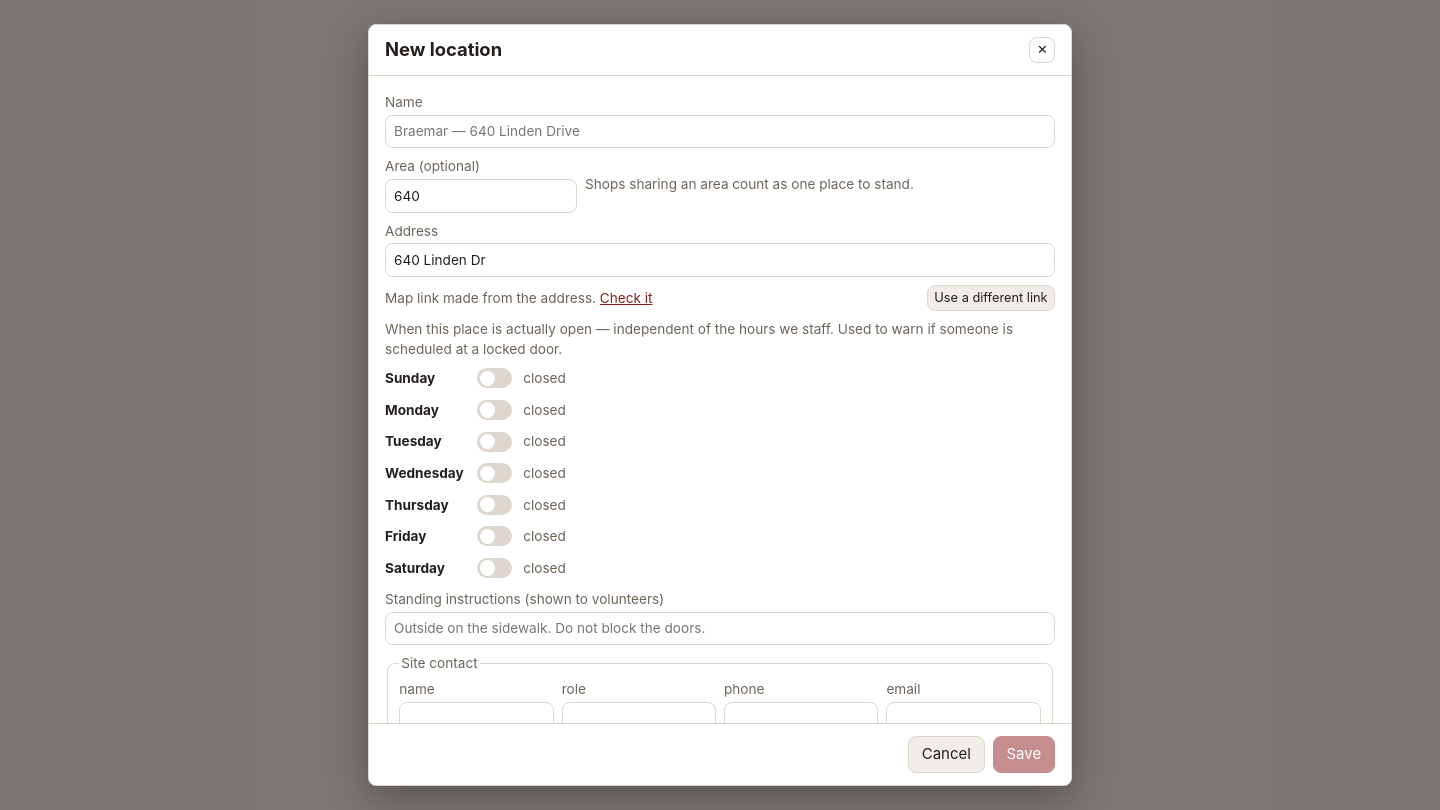
Test: adding one whose name is already taken › lets a name that tells them apart through
Step 1. Type "Braemar — Aldergrove" into the field labelled "Name" → (720, 132), box top-left (385, 115), bottom-right (1055, 148)
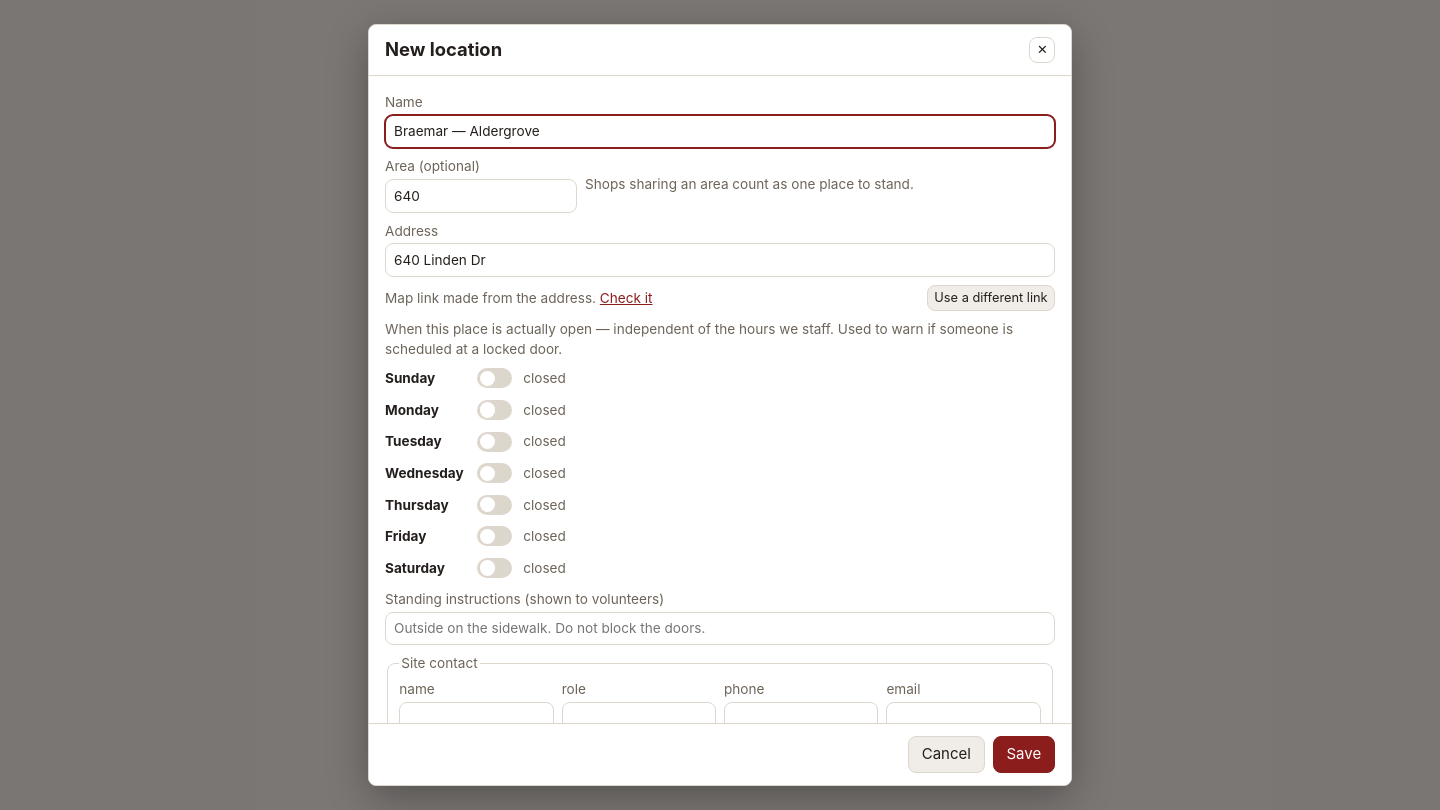
Expected: the button "Save" is enabled, top-left (993, 736), bottom-right (1055, 773)
